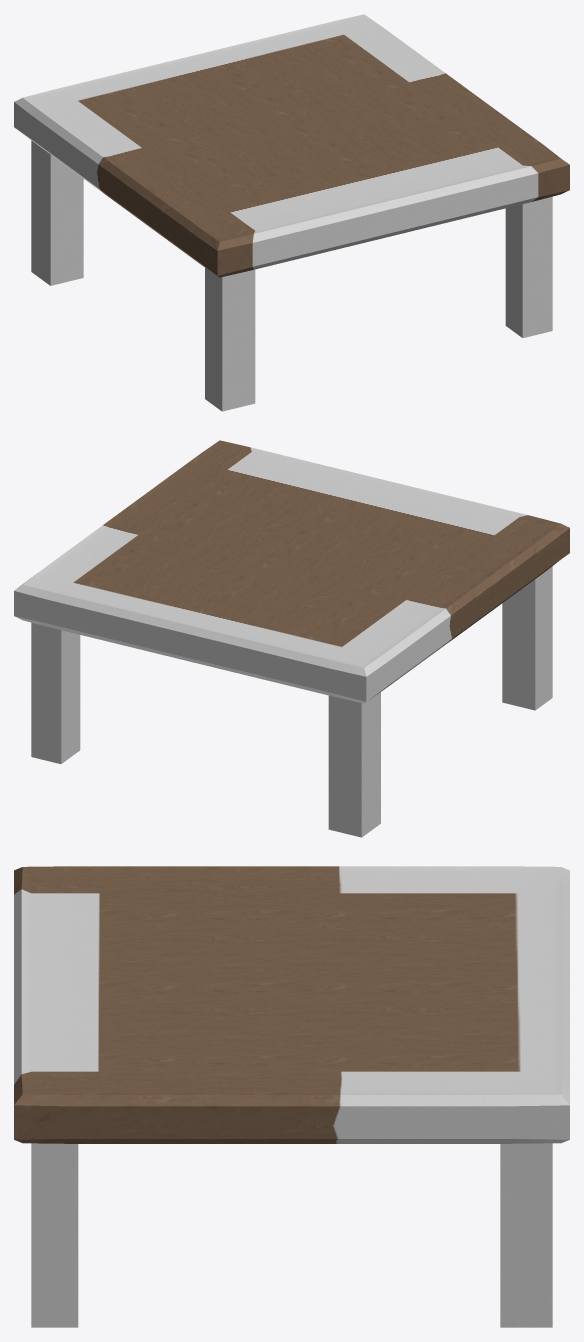
The model's file is Decor_CofeeTable.fbx.
3 views of the same model, one above another, from view 1: azimuth 30°, elevation 25°; view 2: azimuth 150°, elevation 25°; view 3: azimuth 270°, elevation 25° (orthographic). The views are drawn at different scales.
Visible parts, largest first — view 1: Props_CoffeeTable; view 2: Props_CoffeeTable; view 3: Props_CoffeeTable.
Boxes of the visible parts, box(x1,y1,x2,y2) form: Props_CoffeeTable: box(14, 14, 569, 411); Props_CoffeeTable: box(14, 440, 569, 837); Props_CoffeeTable: box(14, 866, 569, 1327).
Size of the model in its own units: 107 by 50.19 by 107.
